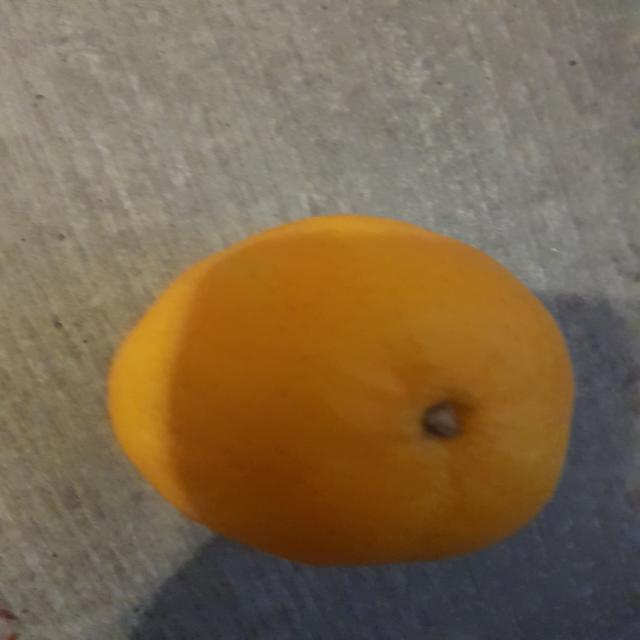Orange: (105, 214, 576, 570)
